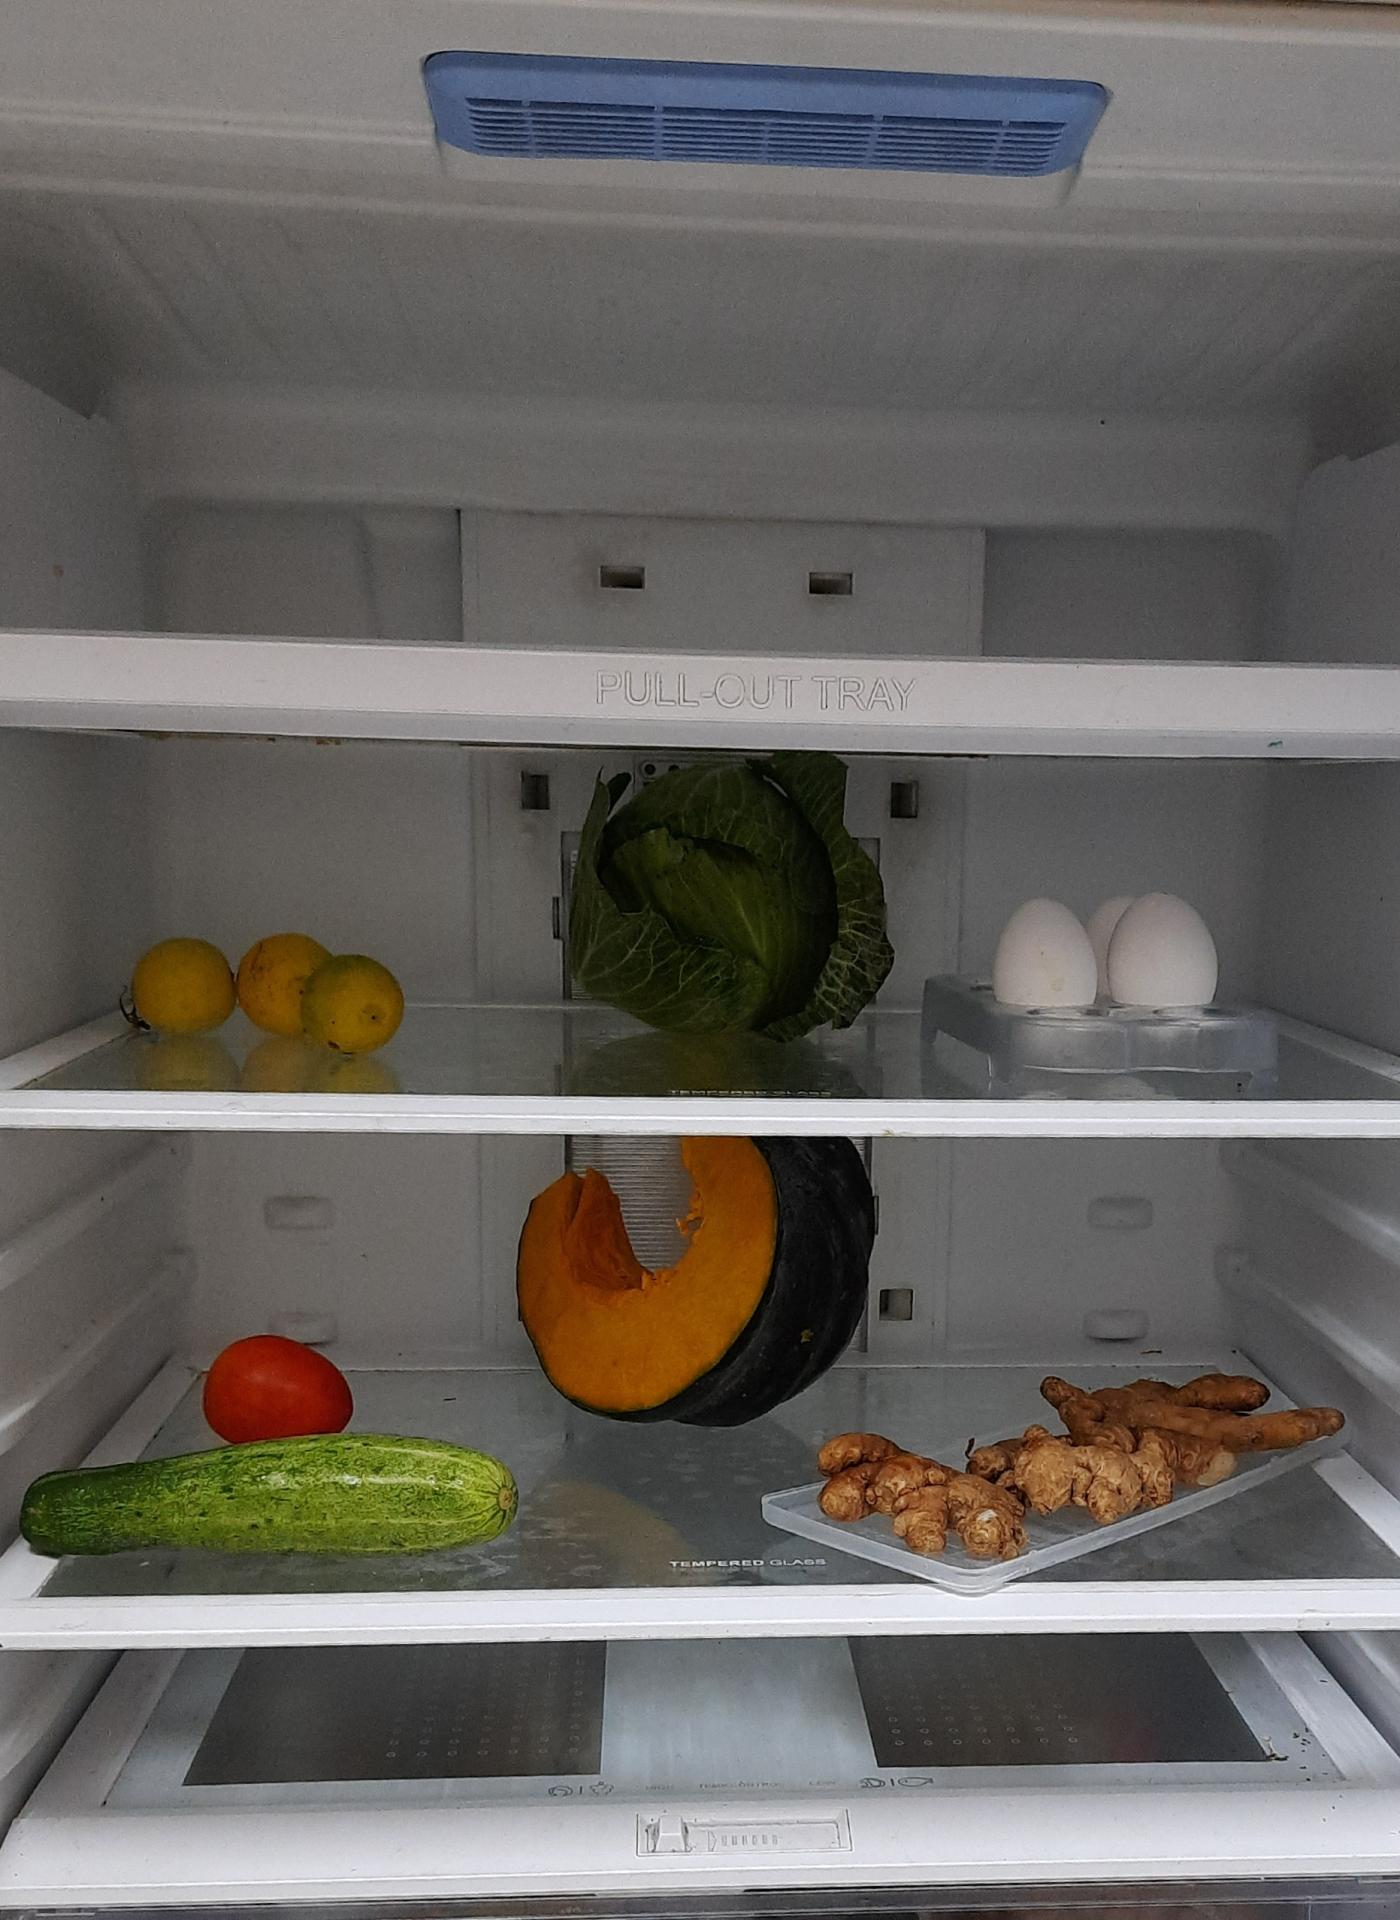cabbage: (568, 757, 896, 1043)
cucumber: (25, 1443, 514, 1556)
egg: (994, 891, 1223, 1023)
ginger: (822, 1370, 1363, 1543)
lemon: (131, 930, 409, 1054)
pumpkin: (520, 1142, 886, 1430)
tomato: (200, 1331, 355, 1443)
